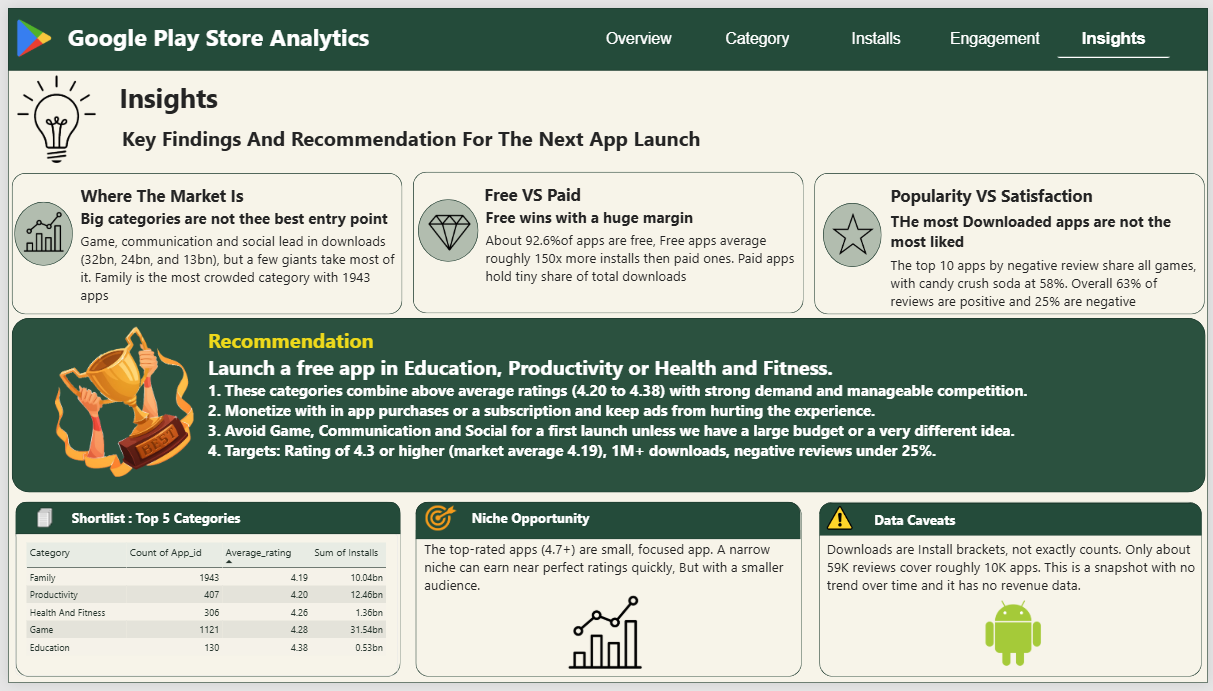

The page's visual inventory and layout, read from the dashboard file:
{"tool":"powerbi","page":{"name":"Insights ","canvas":[1920,1080],"ordinal":4},"visuals":[{"type":"shape","box":[0,0,1920,100],"z":0,"group":"g2"},{"type":"shape","box":[0,0,1920,1080],"z":0},{"type":"image","box":[10,107,135.1,140],"z":0,"group":"g3"},{"type":"shape","box":[647.5,262,625,226.5],"z":0,"group":"g8"},{"type":"shape","box":[5,264.5,625,226.1],"z":0,"group":"g4"},{"type":"textbox","box":[115,281.6,271.6,42.7],"z":0,"group":"g9"},{"type":"shape","box":[1303.5,311.5,93.9,102.4],"z":0,"group":"g10"},{"type":"shape","box":[12,790,616,280],"z":0,"group":"g1"},{"type":"group","id":"g1","title":"Group 2","box":[12,790,616,280],"z":0,"group":"g5"},{"type":"shape","box":[652,790,618,280],"z":0,"group":"g6"},{"type":"shape","box":[1298,790,612,280],"z":0,"group":"g7"},{"type":"group","id":"g2","title":"Top Ribbon","box":[0,0,1920,100],"z":1000},{"type":"textbox","box":[95,20,525,60],"z":1000,"group":"g2"},{"type":"textbox","box":[178.6,112.9,207.1,77.1],"z":1000,"group":"g3"},{"type":"shape","box":[654.5,305,96.7,100],"z":1000,"group":"g8"},{"type":"textbox","box":[115,320,508.6,40.5],"z":1000,"group":"g9"},{"type":"image","box":[1305.6,328.5,92.5,67.5],"z":1000,"group":"g10"},{"type":"textbox","box":[115,358,508.6,130.1],"z":1000,"group":"g4"},{"type":"shape","box":[12,790,616,51.9],"z":1000,"group":"g5"},{"type":"shape","box":[652,790,616,60],"z":1000,"group":"g6"},{"type":"shape","box":[1298,792.1,612,52.2],"z":1000,"group":"g7"},{"type":"tableEx","fields":{"Values":["Apps.Category","CountNonNull(Apps.App_id)","measure_table.Average_rating","Sum(Apps.Installs)"]},"box":[12,839.8,612,228.1],"z":1000,"group":"g1"},{"type":"image","box":[659,326.3,92.5,67.5],"z":1500,"group":"g8"},{"type":"pageNavigator","box":[917.5,20,945,60],"z":2000,"group":"g2"},{"type":"group","id":"g3","title":"Group 1","box":[10,107,1110,140],"z":2000},{"type":"textbox","box":[182.9,184.3,937.1,50],"z":2000,"group":"g3"},{"type":"image","box":[20,322.5,73.2,72.5],"z":2000,"group":"g9"},{"type":"textbox","box":[762.6,356.1,503.5,119.5],"z":2000,"group":"g8"},{"type":"textbox","box":[1412.3,395.1,496.6,96.1],"z":2000,"group":"g10"},{"type":"textbox","box":[1385.5,803.4,238.9,31.2],"z":2000,"group":"g7"},{"type":"image","box":[10.8,8.7,62.8,80.1],"z":3000,"group":"g2"},{"type":"group","id":"g4","title":"Group 8","box":[5,264.5,625,226.1],"z":3000,"group":"g9"},{"type":"textbox","box":[761.7,279.3,177.1,40.5],"z":3000,"group":"g8"},{"type":"textbox","box":[1412.3,323,496.6,72.1],"z":3000,"group":"g10"},{"type":"shape","box":[1290,264,625,226.1],"z":4000,"group":"g10"},{"type":"textbox","box":[762.6,317.7,486.4,38.4],"z":4000,"group":"g8"},{"type":"group","id":"g5","title":"Group 3","box":[12,790,616,280],"z":4000},{"type":"group","id":"g6","title":"Group 4","box":[652,790,618,280],"z":5000},{"type":"group","id":"g7","title":"Group 5","box":[1298,790,612,280],"z":6000},{"type":"textbox","box":[96,800,326,34],"z":7000},{"type":"textbox","box":[742.4,800,469.3,34.1],"z":8000},{"type":"image","box":[28,796,62,40],"z":9000},{"type":"image","box":[664,796,58,40],"z":10000},{"type":"image","box":[1300,795.7,62,40],"z":11000},{"type":"shape","box":[10.7,309.3,93.9,102.4],"z":12000},{"type":"group","id":"g8","title":"Group 6","box":[647.5,262,625,226.5],"z":13000},{"type":"group","id":"g9","title":"Group 7","box":[5,264.5,625,226.1],"z":14000},{"type":"textbox","box":[1412.3,281.6,469.3,38.4],"z":15000},{"type":"group","id":"g10","title":"Group 9","box":[1290,264,625,227.2],"z":16000},{"type":"textbox","box":[665,850,600,105],"z":17000},{"type":"image","box":[665,937,585,122.5],"z":18000},{"type":"textbox","box":[1310,850,590,105],"z":19000},{"type":"image","box":[1315,937,585,122.5],"z":20000},{"type":"shape","box":[5,495,1910,279],"z":21000},{"type":"image","box":[56.7,510,260,240],"z":22000},{"type":"textbox","box":[320,510,1542.5,252],"z":23000}]}

Visuals, with their boxes in screenshot pixels (x1, y1, x2, y2), scaled from the page's 1920x1080 canvas onto the 1213x691 screenshot:
shape: 0 0 1212 64
shape: 0 0 1212 690
image: 6 68 92 158
shape: 409 168 804 313
shape: 3 169 398 314
textbox: 73 180 244 207
shape: 824 199 883 265
shape: 8 505 397 685
"Group 2" group: 8 505 397 685
shape: 412 505 802 685
shape: 820 505 1207 685
"Top Ribbon" group: 0 0 1212 64
textbox: 60 13 392 51
textbox: 113 72 244 122
shape: 413 195 475 259
textbox: 73 205 394 231
image: 825 210 883 253
textbox: 73 229 394 312
shape: 8 505 397 539
shape: 412 505 801 544
shape: 820 507 1207 540
tableEx - Apps.Category x CountNonNull(Apps.App_id): 8 537 394 683
image: 416 209 475 252
pageNavigator: 580 13 1177 51
"Group 1" group: 6 68 708 158
textbox: 116 118 708 150
image: 13 206 59 253
textbox: 482 228 800 304
textbox: 892 253 1206 314
textbox: 875 514 1026 534
image: 7 6 46 57
"Group 8" group: 3 169 398 314
textbox: 481 179 593 205
textbox: 892 207 1206 253
shape: 815 169 1210 314
textbox: 482 203 789 228
"Group 3" group: 8 505 397 685
"Group 4" group: 412 505 802 685
"Group 5" group: 820 505 1207 685
textbox: 61 512 267 534
textbox: 469 512 766 534
image: 18 509 57 535
image: 419 509 456 535
image: 821 509 860 535
shape: 7 198 66 263
"Group 6" group: 409 168 804 313
"Group 7" group: 3 169 398 314
textbox: 892 180 1189 205
"Group 9" group: 815 169 1210 314
textbox: 420 544 799 611
image: 420 600 790 678
textbox: 828 544 1200 611
image: 831 600 1200 678
shape: 3 317 1210 495
image: 36 326 200 480
textbox: 202 326 1177 488
